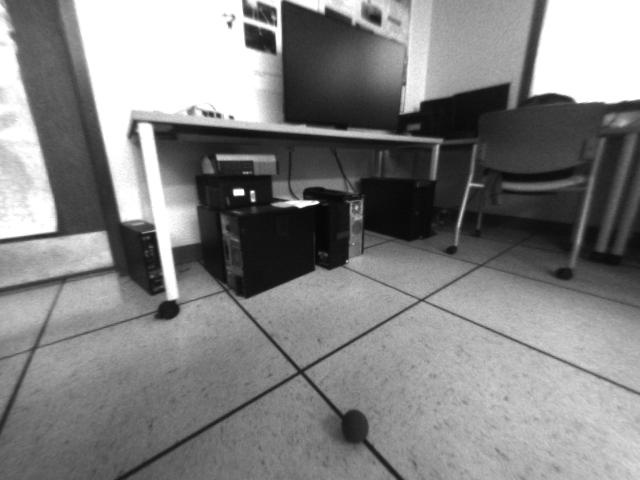dogtoy: (336, 401, 375, 448)
